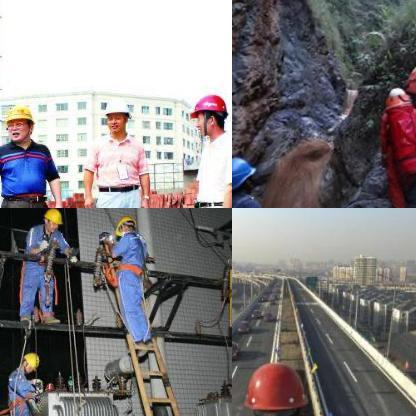Helmet: (241, 357, 311, 415), (184, 88, 230, 136), (0, 98, 39, 146), (99, 95, 131, 133), (232, 153, 258, 193), (112, 212, 136, 236), (20, 346, 40, 374), (42, 208, 63, 233)
